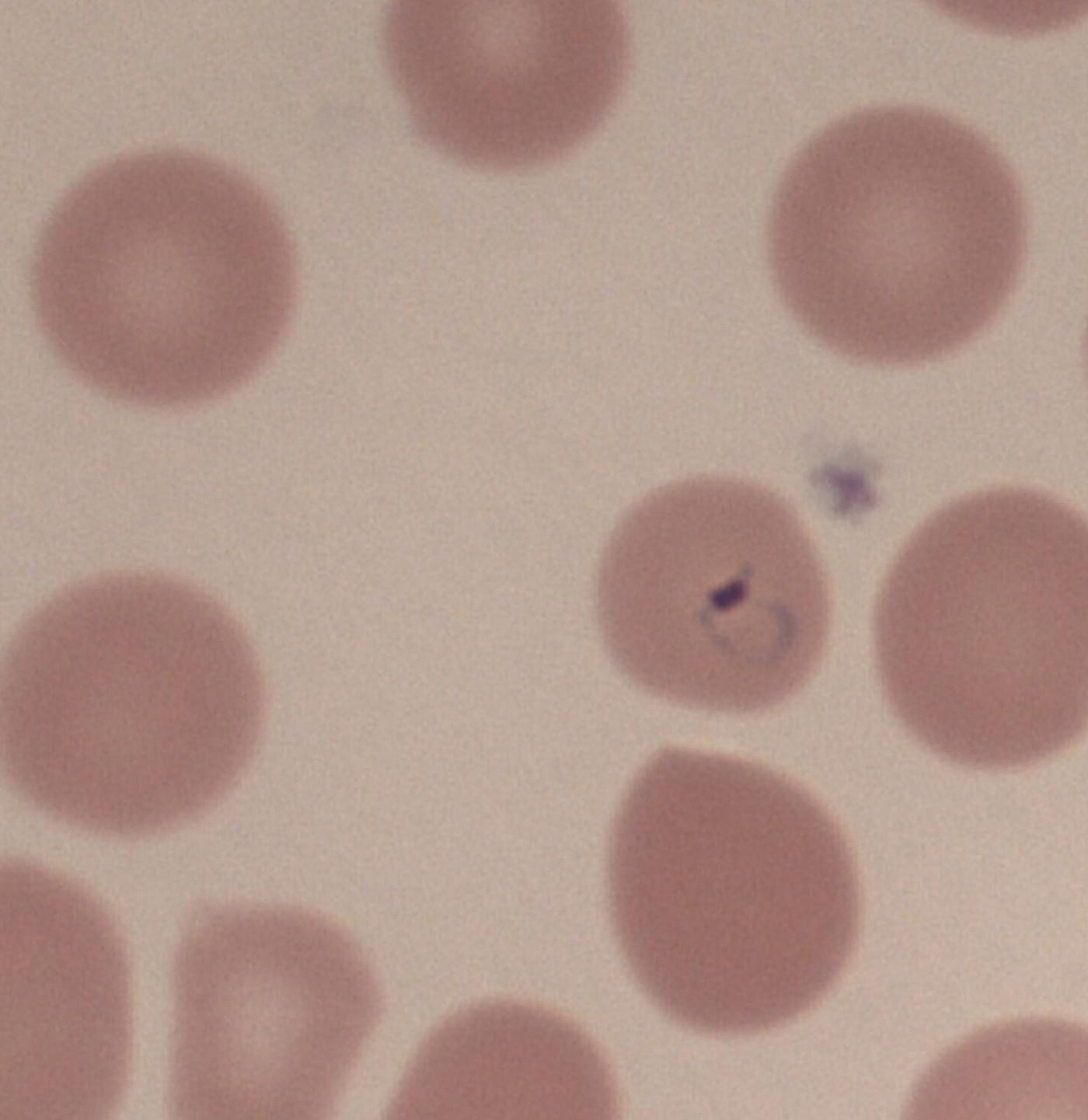Infected: (598, 480, 829, 712)
Uninfected: (611, 742, 863, 1030), (767, 102, 1028, 368), (0, 573, 263, 833), (34, 151, 299, 408), (876, 485, 1088, 769), (171, 908, 370, 1120), (399, 0, 629, 169)
